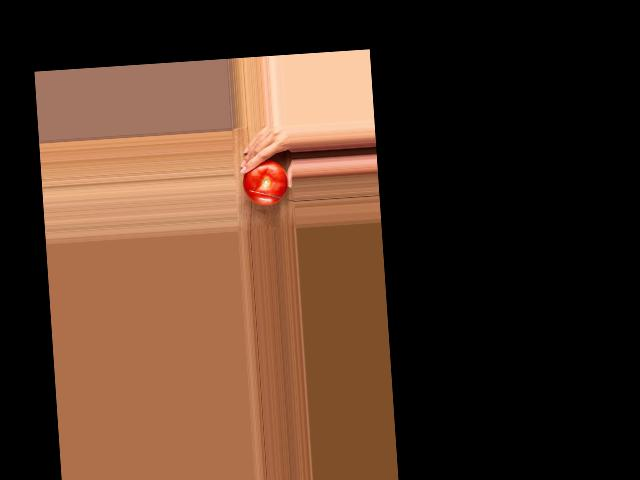tomato: (242, 158, 289, 206)
